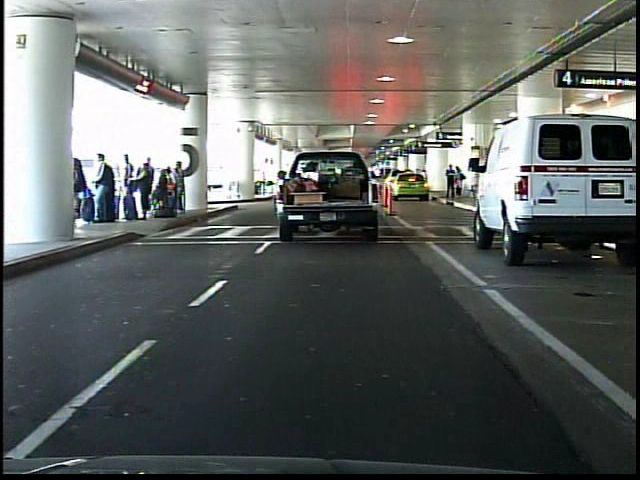person: (443, 164, 457, 201), (455, 165, 467, 203)
